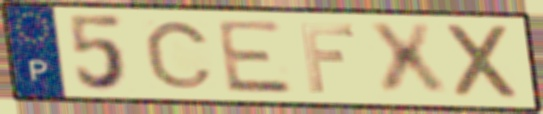5: (67, 12, 136, 94)
C: (141, 19, 218, 91)
E: (213, 18, 298, 96)
F: (297, 21, 358, 95)
X: (363, 21, 453, 99), (442, 21, 524, 102)
